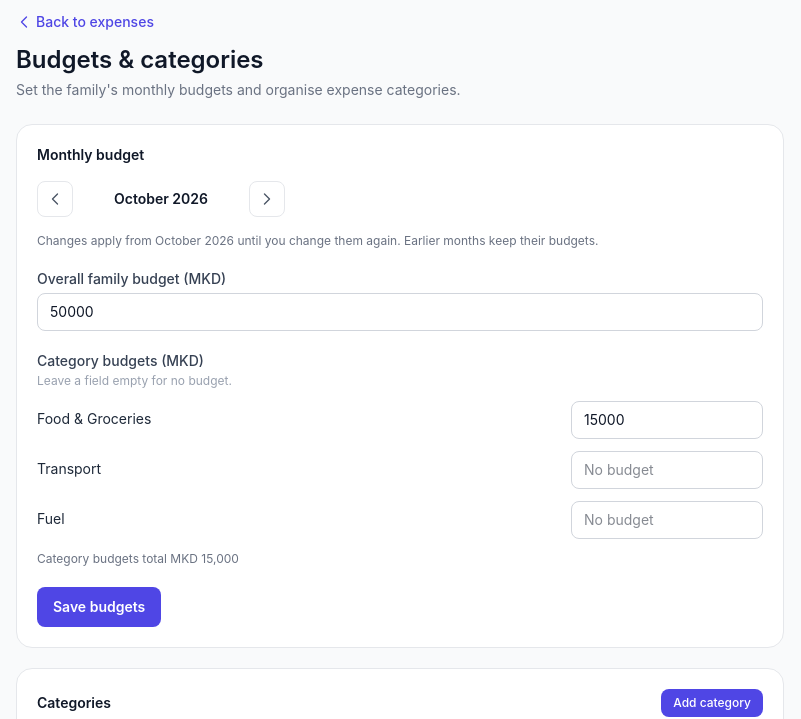
Test: Expense settings: budgets › saves the complete set from the selected month: comma decimals, empty fields omitted
The image size is (801, 719).
Replace the text in the field labelled "Overall family budget (MKD)" with "45000,50" at (400, 312), box [37, 293, 763, 331]
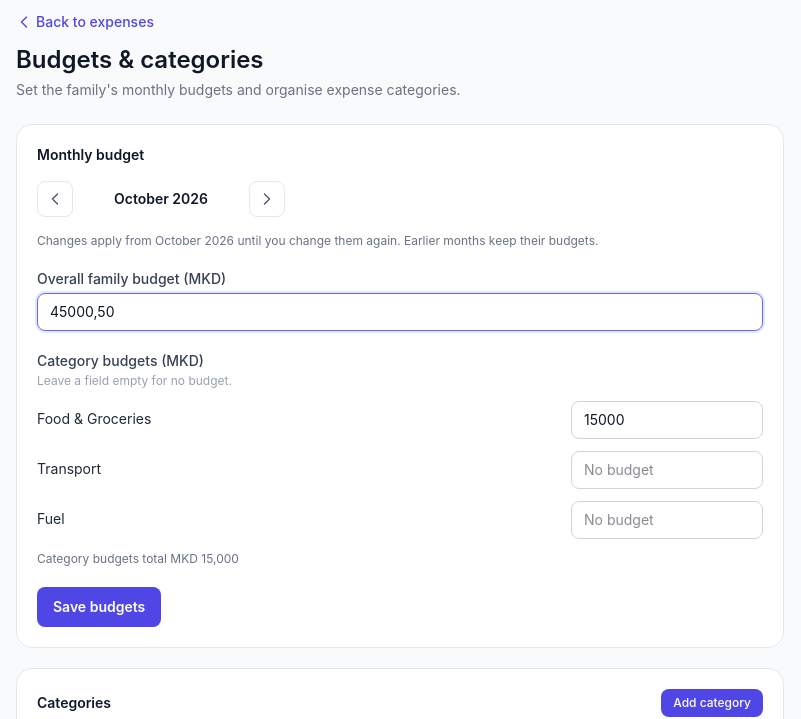
Clear the field labelled "Food & Groceries" at (667, 420), box [571, 401, 763, 439]
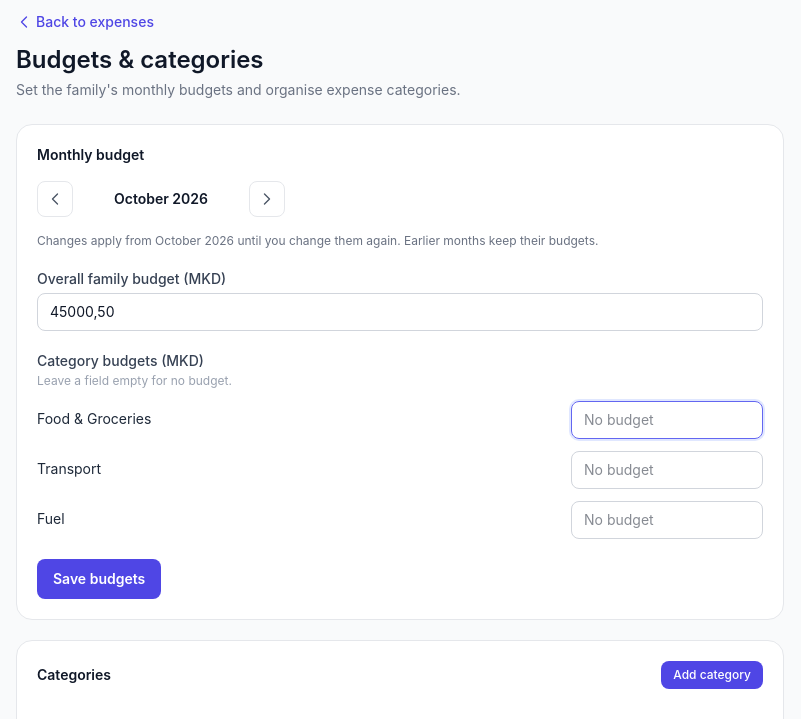
Type "6000" into the field labelled "Transport" at (667, 470), box [571, 451, 763, 489]
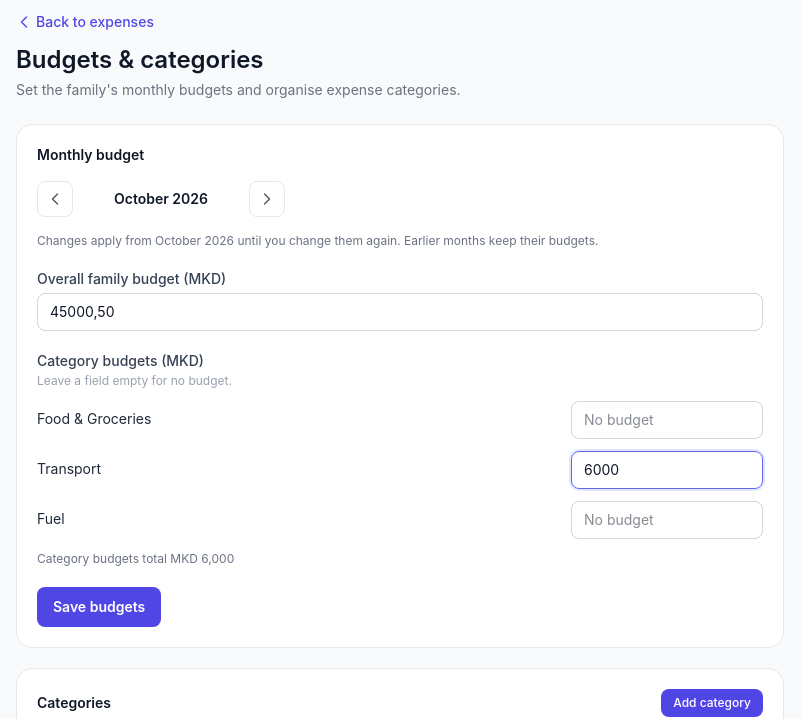
Type "2500.25" into the field labelled "Fuel" at (667, 520), box [571, 501, 763, 539]
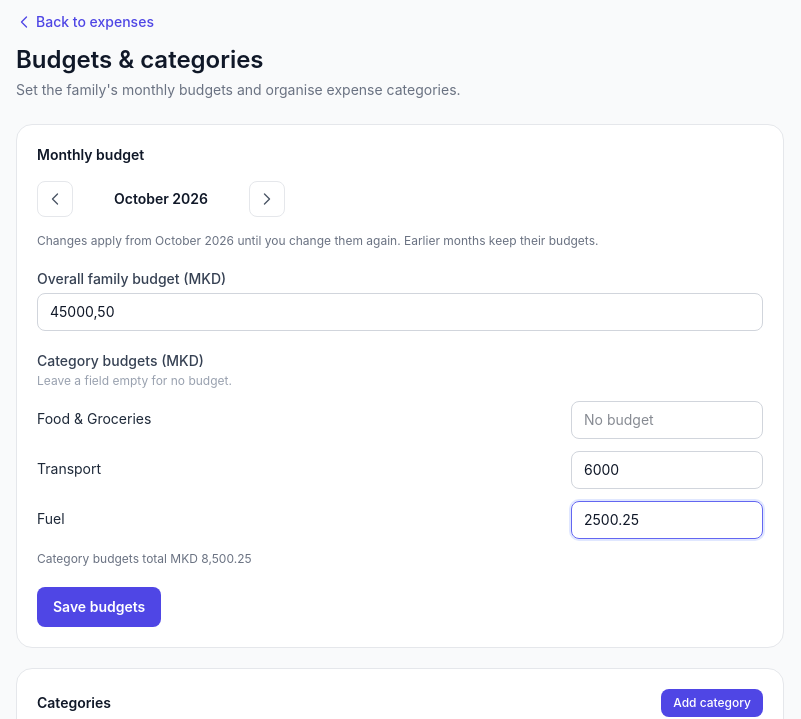
Click the button "Save budgets" at (99, 607), box [37, 587, 161, 627]
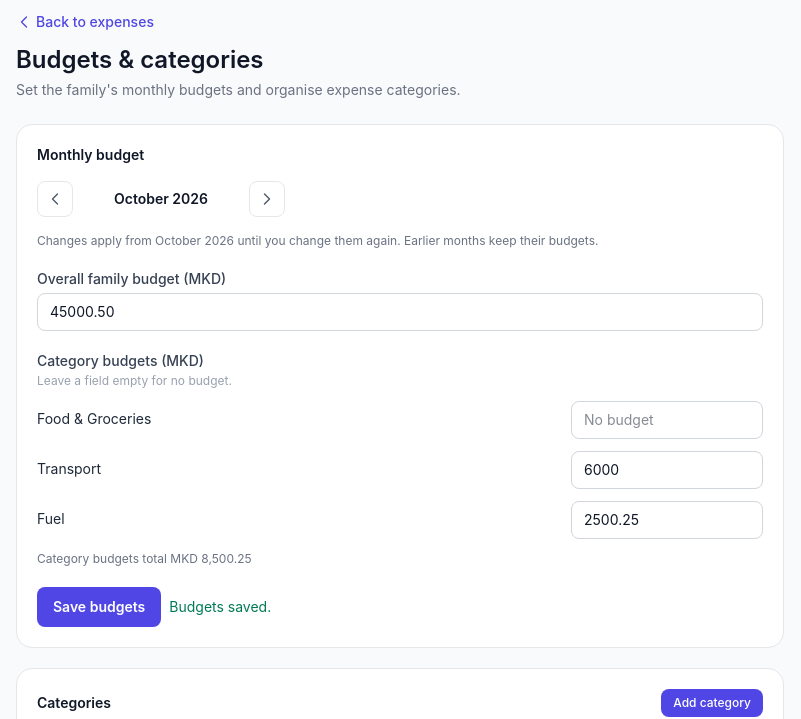
Expected: the message reads "Budgets saved.", [169, 598, 271, 615]
